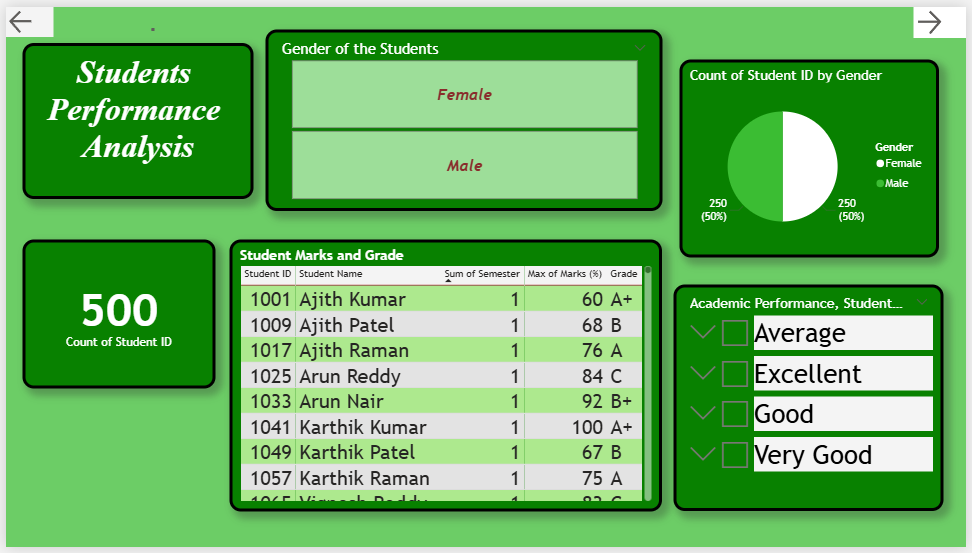

This screenshot's page, from the dashboard's own definition file:
{"tool":"powerbi","page":{"name":"SPA","canvas":[1280,720],"ordinal":1},"visuals":[{"type":"textbox","box":[22.7,47.2,308,207.9],"z":0},{"type":"card","fields":{"Values":["CountNonNull(Fees.Student ID)"]},"box":[22.7,309.9,257,198.4],"z":1000},{"type":"slicer","fields":{"Values":["Students.Gender"]},"box":[345.8,30.2,529.1,241.9],"z":2000},{"type":"tableEx","title":"Student Marks and Grade","fields":{"Values":["Student Academic Performance.Student ID","Student Academic Performance.Student Name","Sum(Student Academic Performance.Semester)","Max(Student Academic Performance.Marks (%))","Student Academic Performance.Grade"]},"box":[298.6,309.9,576.4,362.8],"z":3000},{"type":"pieChart","fields":{"Y":["CountNonNull(Fees.Student ID)"],"Category":["Student Academic Performance.Gender"]},"box":[898,70,346,264],"z":4000},{"type":"slicer","fields":{"Values":["Student Academic Performance.Academic Performance","Student Academic Performance.Student Name"]},"box":[890,370,360,302],"z":5000},{"type":"actionButton","box":[190,10,12,40],"z":6000},{"type":"actionButton","box":[1210.5,0,70,41.4],"z":7000},{"type":"actionButton","box":[0,0,63.6,39.8],"z":8000}]}

Visuals, with their boxes in screenshot pixels (x1, y1, x2, y2):
textbox: (x1=20, y1=40, x2=250, y2=196)
card - CountNonNull(Fees.Student ID): (x1=20, y1=237, x2=212, y2=386)
slicer - Students.Gender: (x1=261, y1=28, x2=658, y2=209)
"Student Marks and Grade" tableEx: (x1=226, y1=237, x2=658, y2=509)
pieChart - CountNonNull(Fees.Student ID) x Student Academic Performance.Gender: (x1=675, y1=57, x2=934, y2=255)
slicer - Student Academic Performance.Academic Performance x Student Academic Performance.Student Name: (x1=669, y1=282, x2=939, y2=508)
actionButton: (x1=145, y1=13, x2=154, y2=43)
actionButton: (x1=909, y1=5, x2=961, y2=36)
actionButton: (x1=3, y1=5, x2=50, y2=35)
